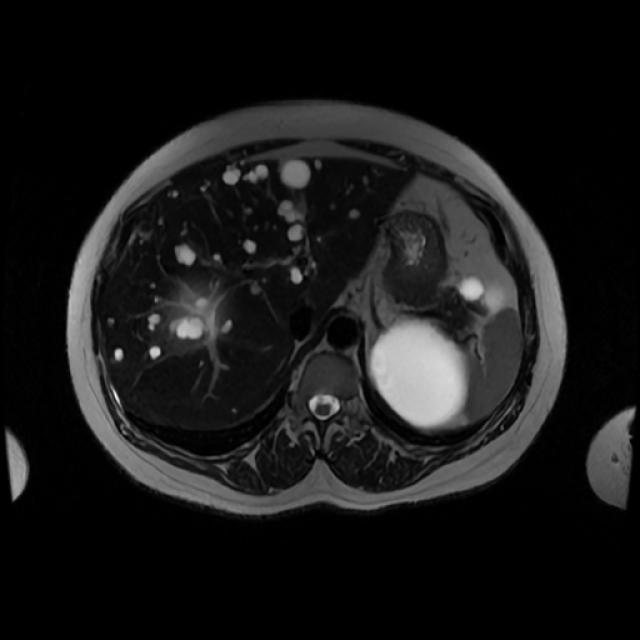sol: (372, 323, 471, 425), (458, 277, 501, 309)
